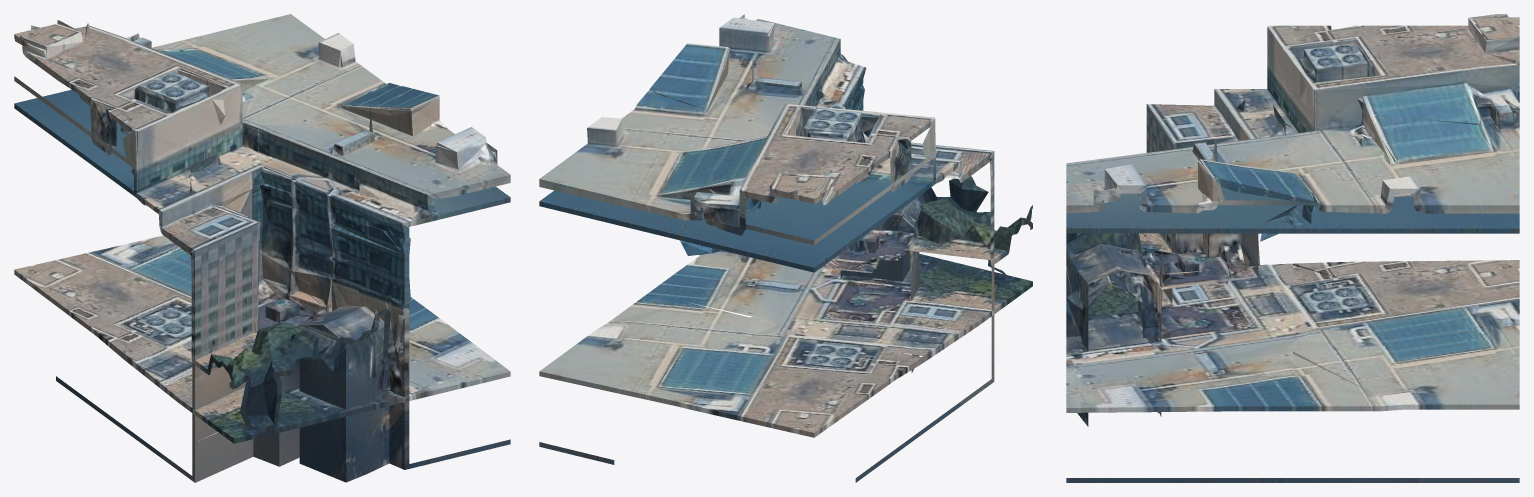
File: chunk_-3_2.glb
The picture shows the model from 3 angles, left to right: view 1: azimuth 30°, elevation 25°; view 2: azimuth 150°, elevation 25°; view 3: azimuth 270°, elevation 25°; orthographic projection. The views are drawn at different scales.
Parts seen in each view (by area): view 1: hero-chunk; view 2: hero-chunk; view 3: hero-chunk.
Part boxes in pixels (box(x1,y1,x2,y2)): hero-chunk: box(14, 14, 510, 482); hero-chunk: box(539, 14, 1032, 482); hero-chunk: box(1066, 14, 1519, 482).
Bounding box in the file's own units: 56.35 × 61.58 × 76.32.
Materials: 3 (3 with a texture image).
